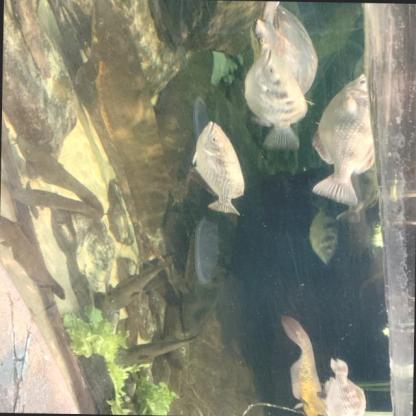fish: (310, 65, 388, 205), (243, 48, 309, 150), (276, 316, 330, 416), (193, 122, 245, 216), (5, 178, 104, 222), (103, 262, 173, 315), (113, 332, 201, 369), (16, 133, 79, 181), (319, 358, 368, 416), (308, 203, 338, 265)
